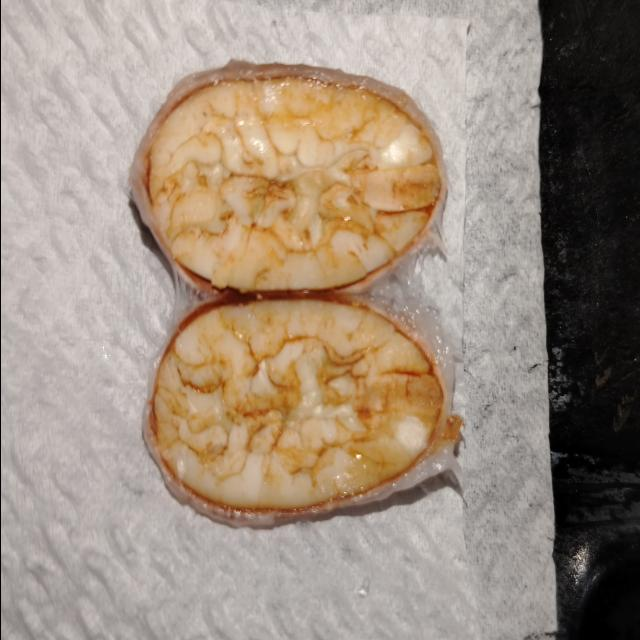Criollo: (143, 63, 451, 518), (138, 65, 450, 298)
